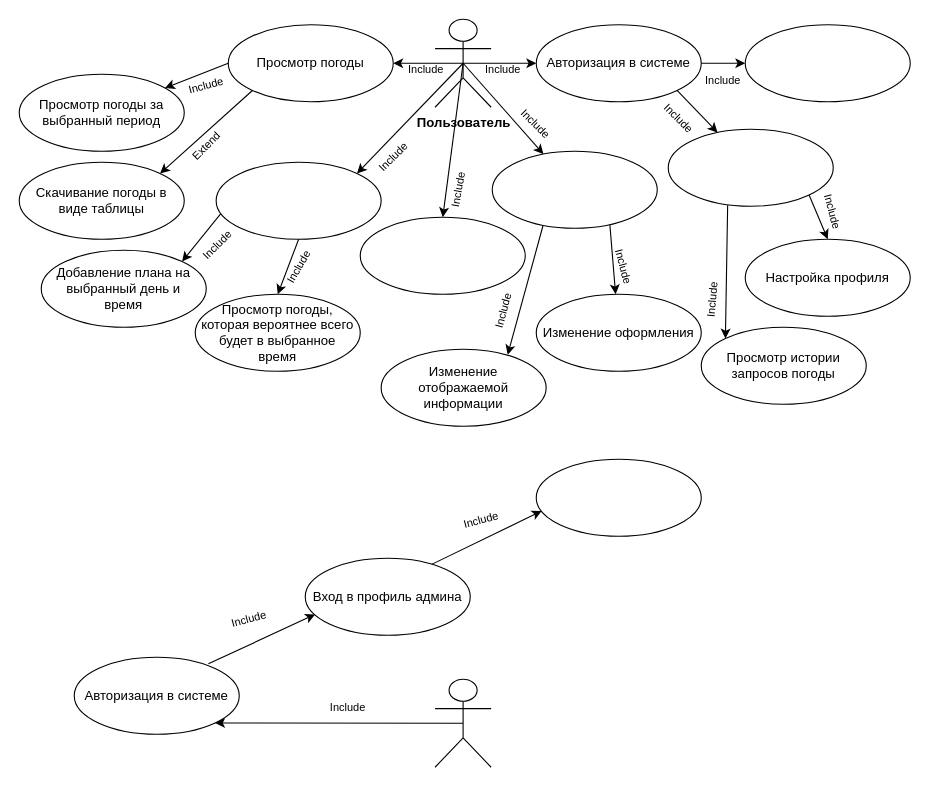
This 930x810 diagram has some shape labels left out. Each missing label, with the centre of its shape:
"Админ" belongs at (462,722).
"Ввод данных погоды" belongs at (442,255).
"Вход в профиль пользователя" belongs at (750,167).
"Настройка главной страницы" belongs at (574,189).
"Настройка данных в БД" belongs at (618,497).
"Планирование дел в соответствии с погодой" belongs at (298,200).
"Регистрация профиля пользователя" belongs at (827,63).
